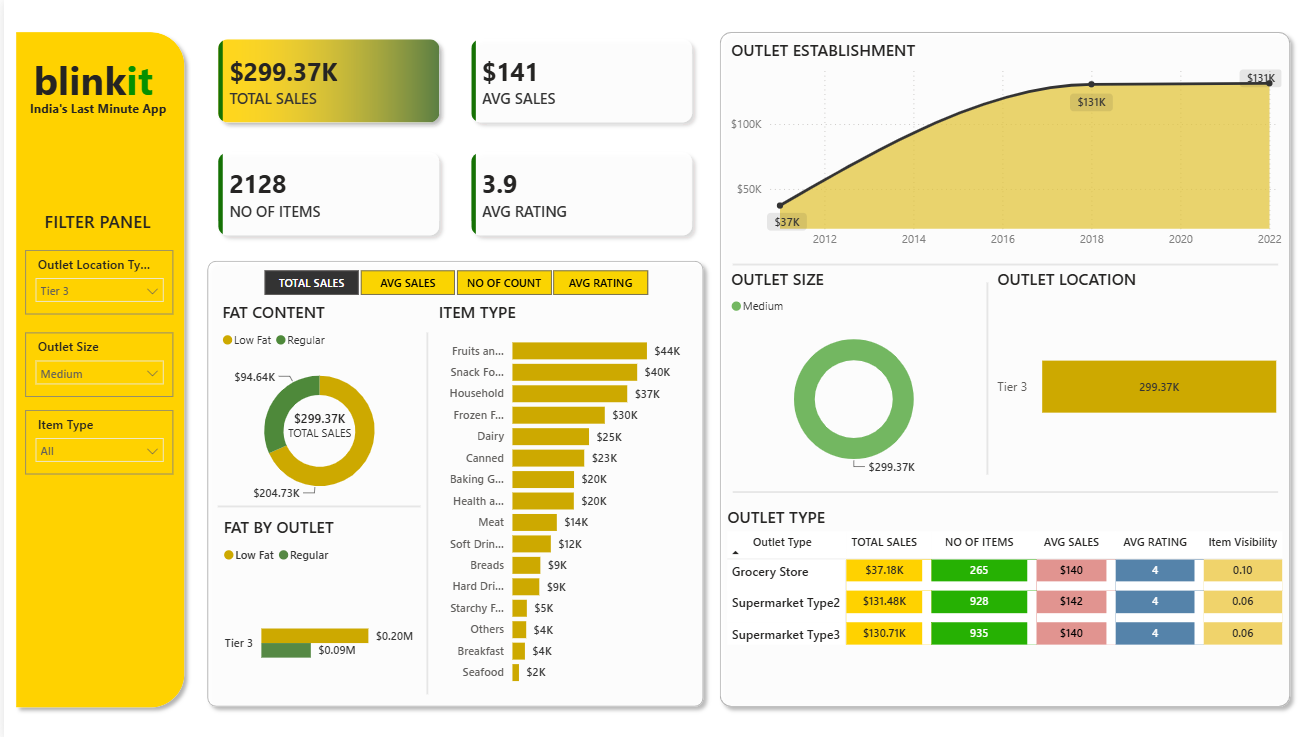

The page's visual inventory and layout, read from the dashboard file:
{"tool":"powerbi","page":{"name":"Page 1","canvas":[1400,800],"ordinal":0},"visuals":[{"type":"shape","box":[3.7,25.9,200,748.1],"z":0},{"type":"textbox","box":[27.2,51.9,153.1,67.9],"z":1000},{"type":"textbox","box":[23.5,102.5,160.5,35.8],"z":2000},{"type":"cardVisual","fields":{"Data":["BlinkIT Grocery Data.TOTAL SALES","BlinkIT Grocery Data.AVG SALES","BlinkIT Grocery Data.NO OF COUNT","BlinkIT Grocery Data.AVG RATING"]},"box":[202.5,13.9,570.9,270.9],"z":3000},{"type":"shape","box":[211.4,273.4,554.4,500],"z":4000},{"type":"donutChart","title":"FAT CONTENT","fields":{"Y":["BlinkIT Grocery Data.NO OF ITEMS"],"Category":["BlinkIT Grocery Data.Item Fat Content"]},"box":[231.6,325.3,220.3,230.4],"z":5000},{"type":"slicer","fields":{"Values":["Matrics.Matrics"]},"box":[255.7,284.8,464.6,40.5],"z":6000},{"type":"cardVisual","fields":{"Data":["BlinkIT Grocery Data.NO OF ITEMS"]},"box":[246.8,412.7,188.6,94.9],"z":7000},{"type":"clusteredBarChart","title":"FAT BY OUTLET","fields":{"Y":["BlinkIT Grocery Data.NO OF ITEMS"],"Category":["BlinkIT Grocery Data.Outlet Location Type"],"Series":["BlinkIT Grocery Data.Item Fat Content"]},"box":[232.1,557.7,220.5,217.9],"z":8000},{"type":"shape","box":[230.8,539.7,219.2,16.7],"z":9000},{"type":"shape","box":[451.9,359.5,12.7,391.1],"z":10000},{"type":"barChart","title":"ITEM TYPE","fields":{"Y":["BlinkIT Grocery Data.NO OF ITEMS"],"Category":["BlinkIT Grocery Data.Item Type"]},"box":[464.6,325.3,289.9,425.3],"z":11000},{"type":"shape","box":[765.4,25.6,634.6,747.4],"z":12000},{"type":"lineChart","title":"OUTLET ESTABLISHMENT","fields":{"Y":["BlinkIT Grocery Data.TOTAL SALES"],"Category":["BlinkIT Grocery Data.Outlet Establishment Year"]},"box":[780.8,42.3,605.1,234.6],"z":13000},{"type":"shape","box":[788.5,276.9,589.7,17.9],"z":14000},{"type":"donutChart","title":"OUTLET SIZE","fields":{"Category":["BlinkIT Grocery Data.Outlet Size"],"Y":["BlinkIT Grocery Data.TOTAL SALES"]},"box":[780.8,288.8,275.6,234.6],"z":15000},{"type":"shape","box":[1056.4,305.1,12.8,207.7],"z":16000},{"type":"funnel","title":"OUTLET LOCATION","fields":{"Y":["Sum(BlinkIT Grocery Data.Sales)"],"Category":["BlinkIT Grocery Data.Outlet Location Type"]},"box":[1069.2,288.8,316.7,234.6],"z":17000},{"type":"shape","box":[788.5,523.1,589.7,17.9],"z":18000},{"type":"pivotTable","title":"OUTLET TYPE","fields":{"Rows":["BlinkIT Grocery Data.Outlet Type"],"Values":["BlinkIT Grocery Data.TOTAL SALES","BlinkIT Grocery Data.NO OF COUNT","BlinkIT Grocery Data.AVG SALES","BlinkIT Grocery Data.AVG RATING","Avg(BlinkIT Grocery Data.Item Visibility)"]},"box":[776.9,547.4,612.8,238.5],"z":19000},{"type":"slicer","fields":{"Values":["BlinkIT Grocery Data.Outlet Location Type"]},"box":[23.1,270.5,160.3,69.2],"z":20000},{"type":"slicer","fields":{"Values":["BlinkIT Grocery Data.Outlet Size"]},"box":[23.1,359,160.3,69.2],"z":21000},{"type":"slicer","fields":{"Values":["BlinkIT Grocery Data.Item Type"]},"box":[23.1,443.6,160.3,69.2],"z":22000},{"type":"textbox","box":[23.1,221.8,156.4,39.7],"z":23000}]}

Visuals, with their boxes in screenshot pixels (x1, y1, x2, y2), scaled from the page's 1400x800 canvas onto the 1298x737 screenshot:
shape: box=[3, 24, 189, 713]
textbox: box=[25, 48, 167, 110]
textbox: box=[22, 94, 171, 127]
cardVisual - BlinkIT Grocery Data.TOTAL SALES x BlinkIT Grocery Data.AVG SALES: box=[188, 13, 717, 262]
shape: box=[196, 252, 710, 712]
"FAT CONTENT" donutChart: box=[215, 300, 419, 512]
slicer - Matrics.Matrics: box=[237, 262, 668, 300]
cardVisual - BlinkIT Grocery Data.NO OF ITEMS: box=[229, 380, 404, 468]
"FAT BY OUTLET" clusteredBarChart: box=[215, 514, 420, 715]
shape: box=[214, 497, 417, 513]
shape: box=[419, 331, 431, 691]
"ITEM TYPE" barChart: box=[431, 300, 700, 691]
shape: box=[710, 24, 1297, 712]
"OUTLET ESTABLISHMENT" lineChart: box=[724, 39, 1285, 255]
shape: box=[731, 255, 1278, 272]
"OUTLET SIZE" donutChart: box=[724, 266, 979, 482]
shape: box=[979, 281, 991, 472]
"OUTLET LOCATION" funnel: box=[991, 266, 1285, 482]
shape: box=[731, 482, 1278, 498]
"OUTLET TYPE" pivotTable: box=[720, 504, 1288, 724]
slicer - BlinkIT Grocery Data.Outlet Location Type: box=[21, 249, 170, 313]
slicer - BlinkIT Grocery Data.Outlet Size: box=[21, 331, 170, 394]
slicer - BlinkIT Grocery Data.Item Type: box=[21, 409, 170, 472]
textbox: box=[21, 204, 166, 241]
